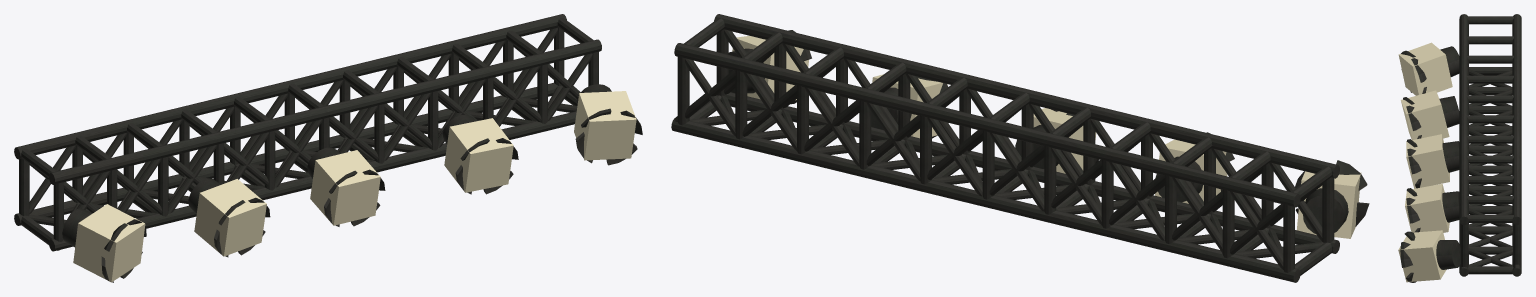
Rendered from overheadLights_v2.fbx.
The picture shows the model from 3 angles, left to right: view 1: azimuth 30°, elevation 25°; view 2: azimuth 150°, elevation 25°; view 3: azimuth 270°, elevation 25°; orthographic projection. The views are drawn at different scales.
Visible parts, largest first — view 1: pCube1 (×5), pCylinder5, pCylinder4, pCylinder1 (×5), pCylinder2, pCylinder3, pCylinder47, pCylinder58, pCylinder39, pCylinder48, pCylinder66, pCylinder74 (+34 smaller); view 2: pCylinder4, pCylinder3, pCylinder5, pCube1 (×5), pCylinder2, pCylinder1, pCylinder47, pCylinder30, pCylinder48, pCylinder71, pCylinder46, pCylinder42 (+59 smaller); view 3: pCube1 (×5), pCylinder1 (×5), pCylinder5, pCylinder4, pCylinder12, pCylinder11, pCylinder19, pCylinder20, pCylinder7, pCylinder8, pCylinder16, pCylinder15 (+38 smaller).
Part boxes in pixels (<box>): pCube1 (×5): <box>73,91,636,282</box>; pCylinder5: <box>49,39,601,184</box>; pCylinder4: <box>14,14,566,159</box>; pCylinder1 (×5): <box>62,84,642,282</box>; pCylinder2: <box>49,111,576,251</box>; pCylinder3: <box>14,82,557,225</box>; pCylinder47: <box>53,182,63,241</box>; pCylinder58: <box>168,144,217,213</box>; pCylinder39: <box>264,130,275,190</box>; pCylinder48: <box>19,158,29,215</box>; pCylinder66: <box>275,119,322,187</box>; pCylinder74: <box>384,92,431,160</box>; pCylinder4: <box>674,43,1300,207</box>; pCylinder3: <box>671,118,1300,282</box>; pCylinder5: <box>714,14,1339,178</box>; pCube1 (×5): <box>732,36,1361,238</box>; pCylinder2: <box>725,92,1339,253</box>; pCylinder1: <box>1295,160,1369,233</box>; pCylinder47: <box>1322,177,1334,242</box>; pCylinder30: <box>735,70,747,139</box>; pCylinder48: <box>1283,204,1294,272</box>; pCylinder71: <box>927,117,982,196</box>; pCylinder46: <box>1222,189,1234,258</box>; pCylinder42: <box>1101,159,1113,228</box>; pCube1 (×5): <box>1398,42,1452,282</box>; pCylinder1 (×5): <box>1400,46,1460,282</box>; pCylinder5: <box>1459,14,1468,224</box>; pCylinder4: <box>1512,14,1521,224</box>; pCylinder12: <box>1467,55,1513,63</box>; pCylinder11: <box>1467,75,1513,83</box>; pCylinder19: <box>1467,155,1513,163</box>; pCylinder20: <box>1467,135,1513,143</box>; pCylinder7: <box>1467,16,1513,24</box>; pCylinder8: <box>1467,36,1513,44</box>; pCylinder16: <box>1466,95,1513,103</box>; pCylinder15: <box>1467,115,1513,123</box>.
Bounding box in the file's own units: 497 × 83.5 × 127.
Materials: 2 (1 with a texture image).
